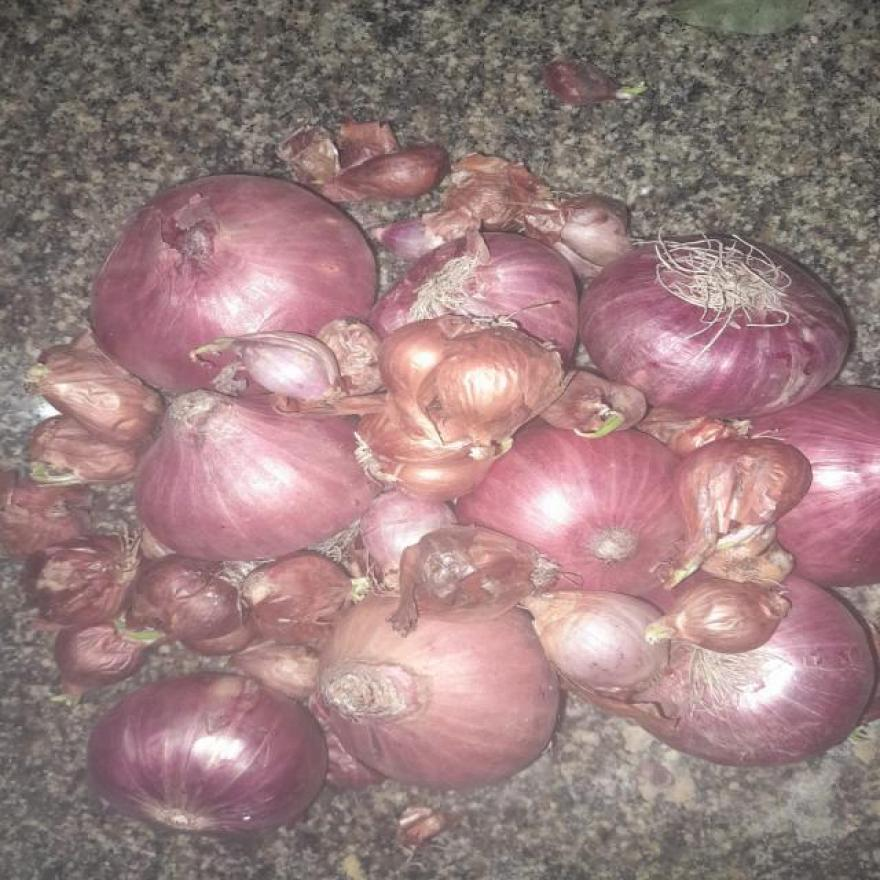Sprouted: (573, 406, 630, 441)
